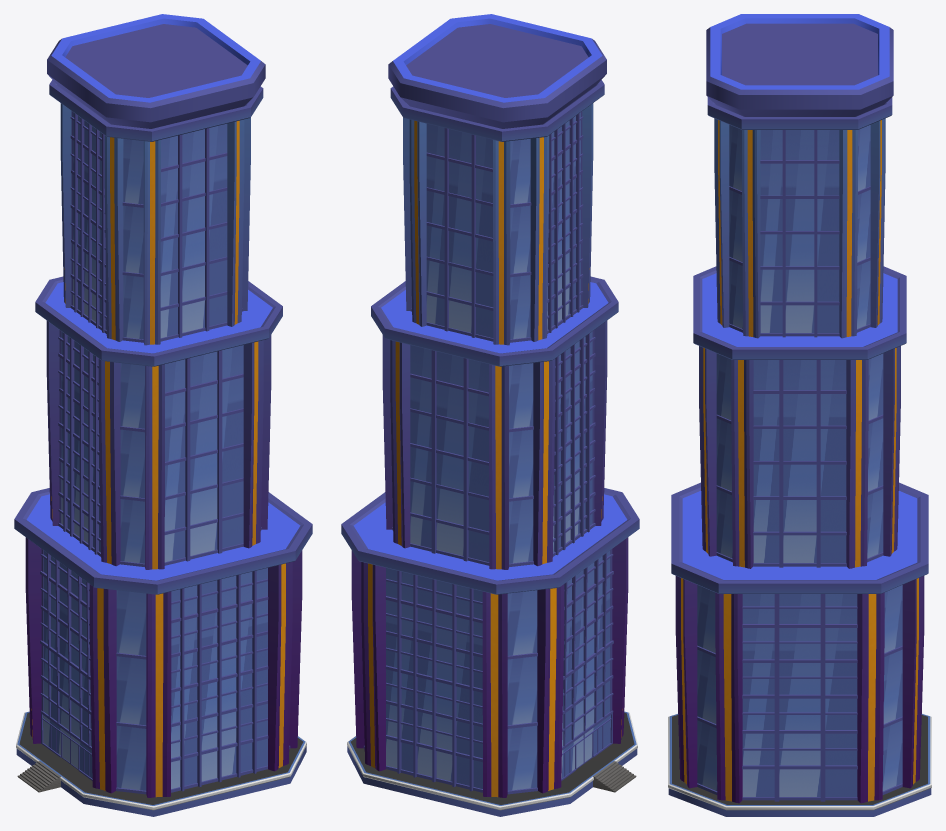
File: Building_7_1_C.glb
3 views of the same model, side by side, from view 1: azimuth 30°, elevation 25°; view 2: azimuth 150°, elevation 25°; view 3: azimuth 270°, elevation 25° (orthographic).
Parts seen in each view (by area): view 1: Building_7_1_C; view 2: Building_7_1_C; view 3: Building_7_1_C.
Part boxes in pixels (<box>): Building_7_1_C: <box>14,14,312,816</box>; Building_7_1_C: <box>341,14,639,816</box>; Building_7_1_C: <box>668,14,931,816</box>.
Size of the model in its own units: 25.2 by 68.46 by 23.11.
4 materials, 4 textured.
